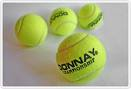tennis ball: (56, 31, 107, 85), (16, 12, 49, 48), (48, 5, 78, 37), (77, 3, 107, 32)
